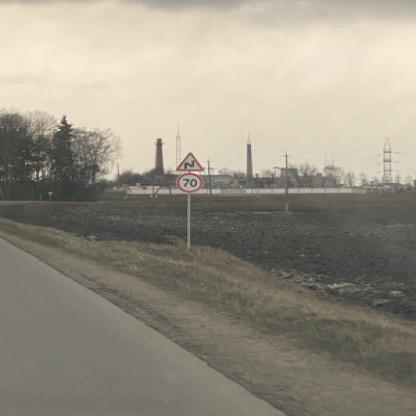speedlimit: (174, 172, 200, 192)
